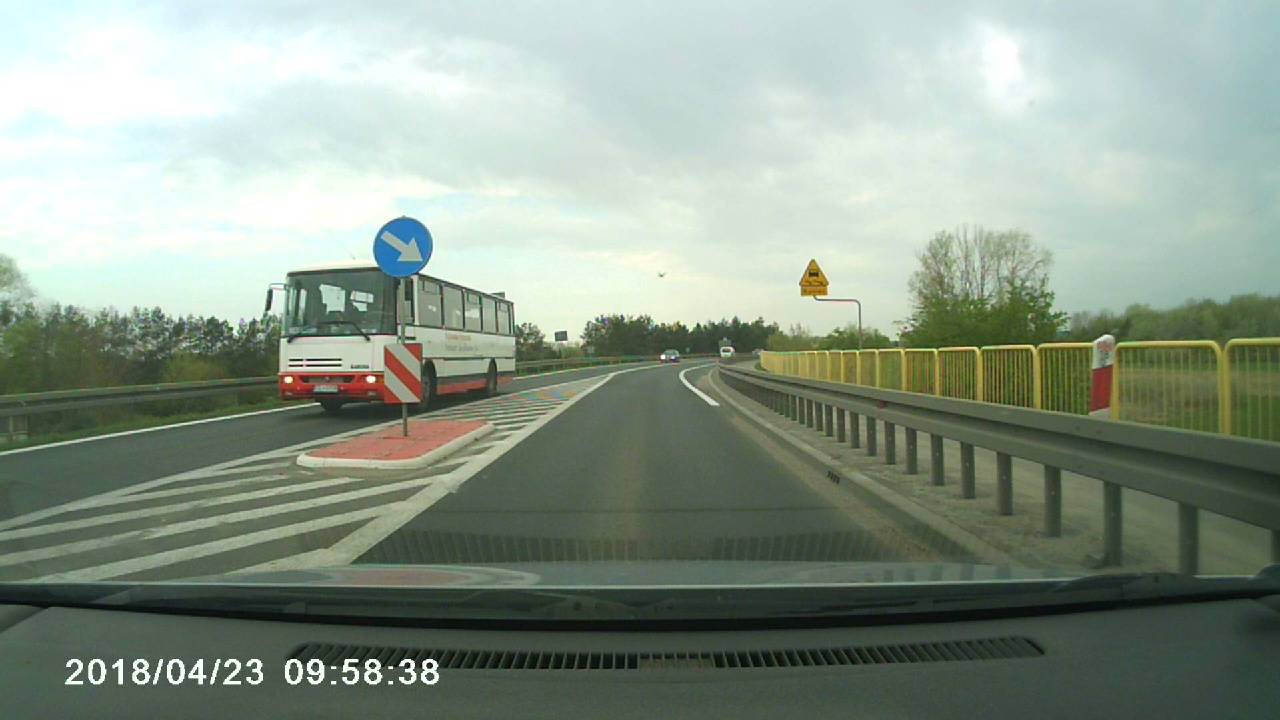A15: (799, 259, 829, 286)
C9: (373, 217, 433, 276)
